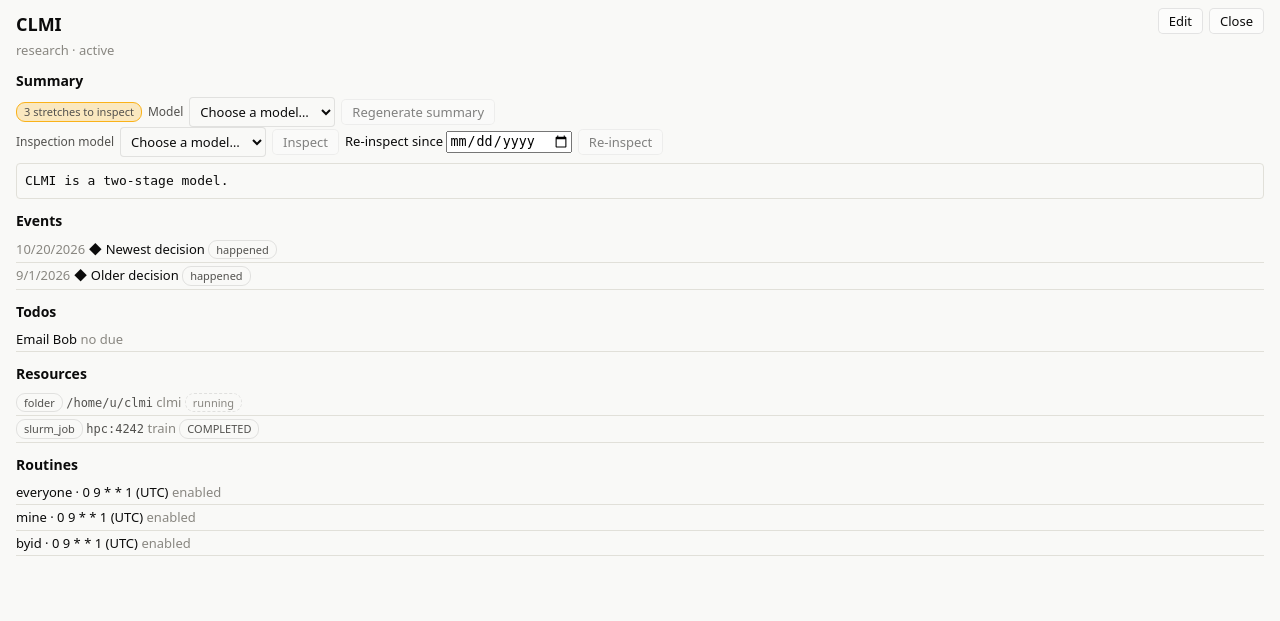
it: ProjectView › regenerates the summary from the button
Check: the button "Regenerate summary" is disabled, box [341, 99, 495, 125]
Select "claude-fable-5-1" in the dropdown labelled "Model" at (262, 112), box [189, 97, 335, 127]
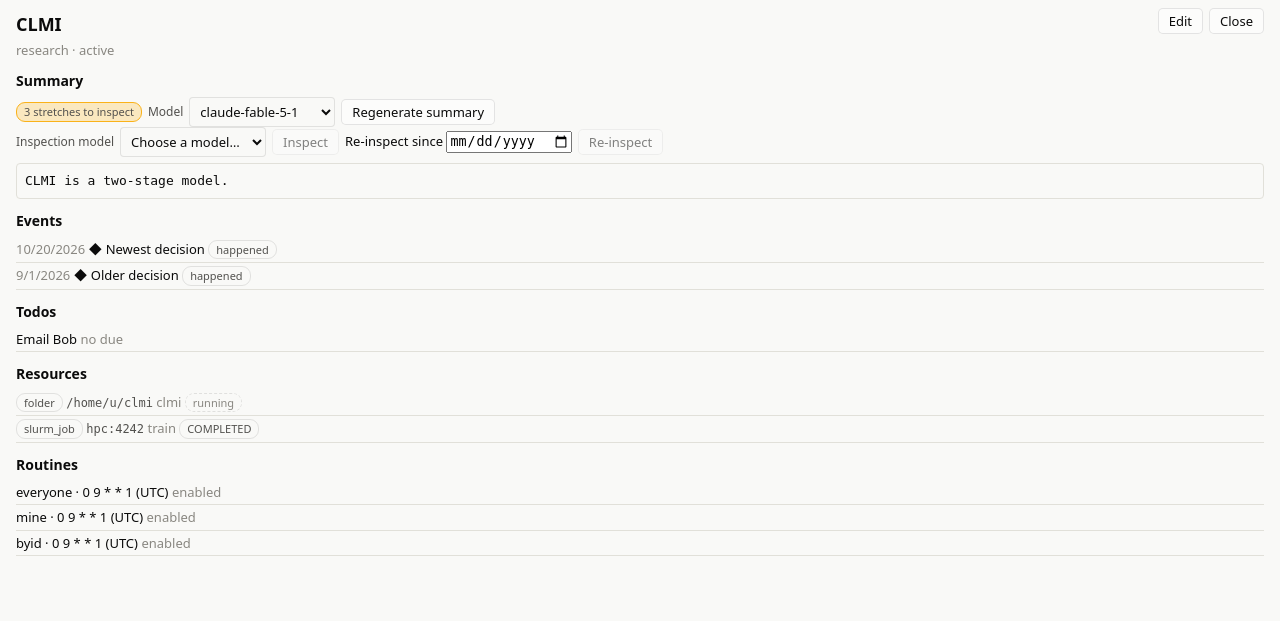
Click the button "Regenerate summary" at (418, 112), box [341, 99, 495, 125]
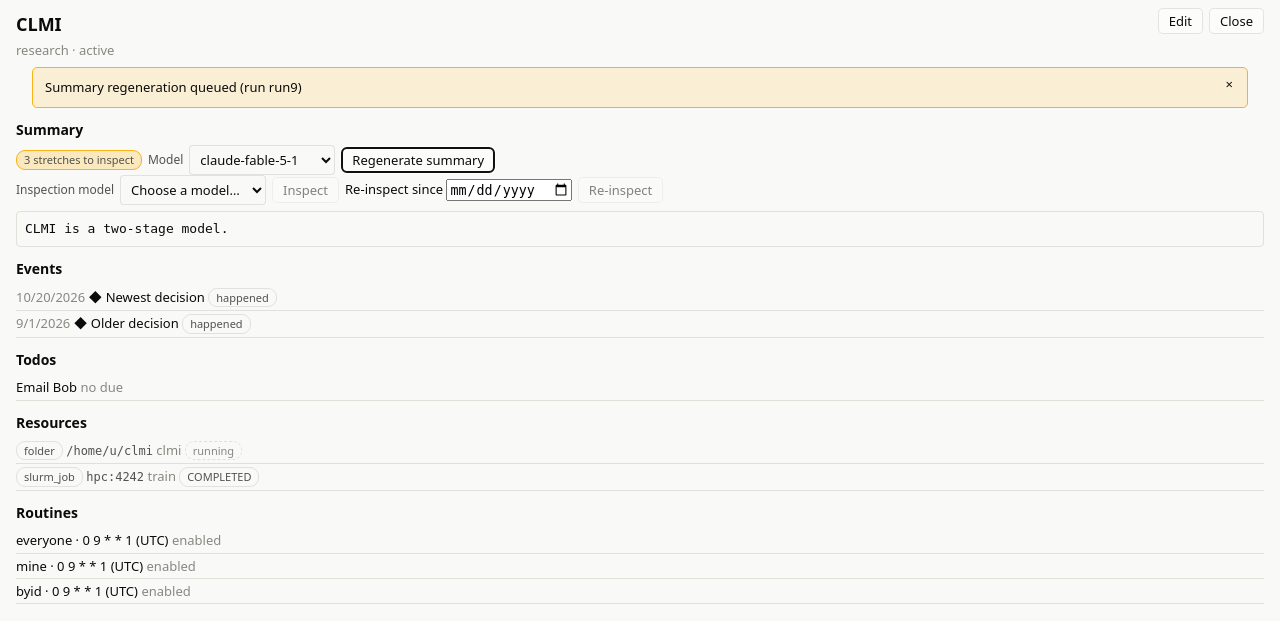
Check: the text "Summary regeneration queued (run run9)" is shown, box [45, 78, 302, 96]
